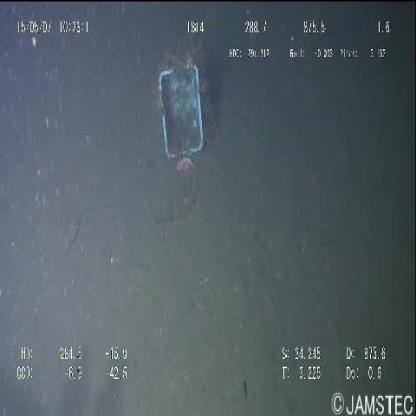Rác: (154, 48, 207, 169)
